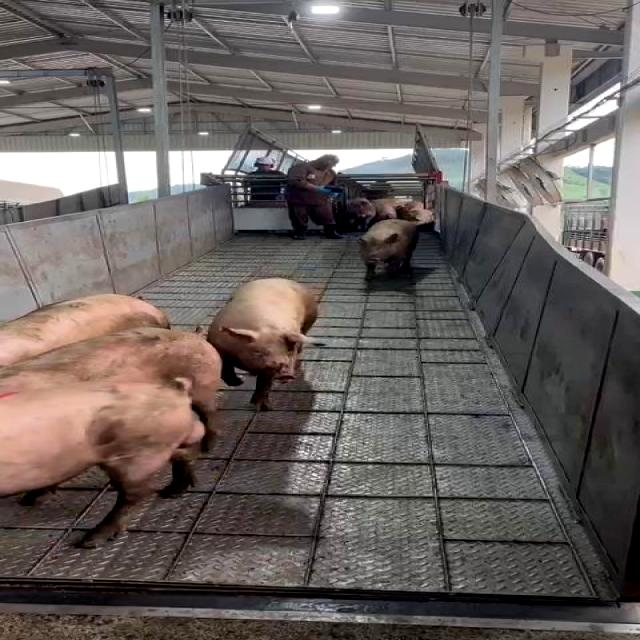pig: (1, 382, 204, 545), (3, 329, 221, 436), (207, 278, 318, 409), (1, 294, 167, 364), (360, 220, 418, 278)
